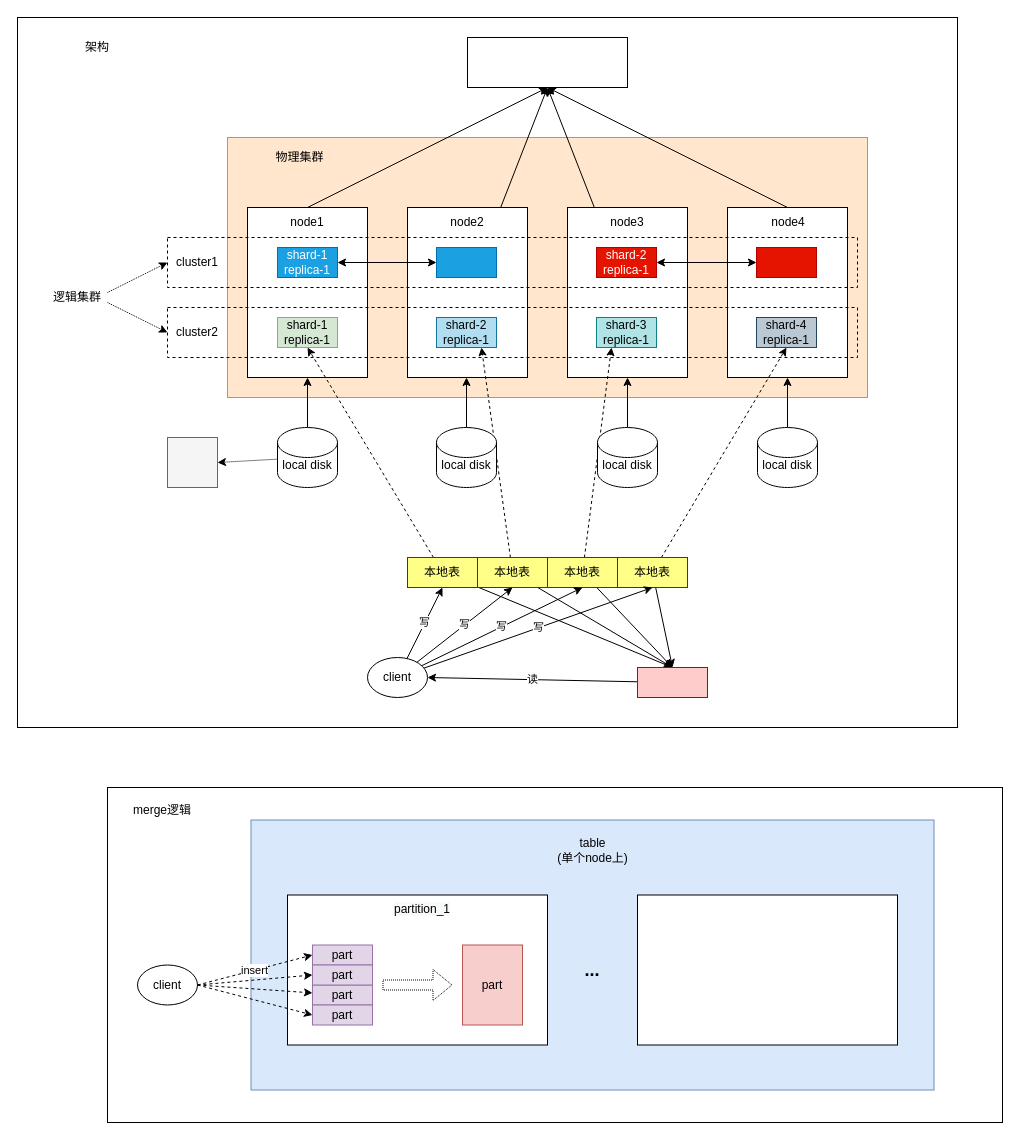
Some shapes in this 1020 by 1140 pixel diagram are drawn without their labels. Each missing label, with the centre of its shape:
partition_n: (767,969)
shard-1 replica-2: (466,262)
shard-2 replica-2: (786,262)
zookeeper （分布式DDL、副本同步）: (547,62)
元数据 表数据 配置文件: (192,462)
分布式表: (672,682)
